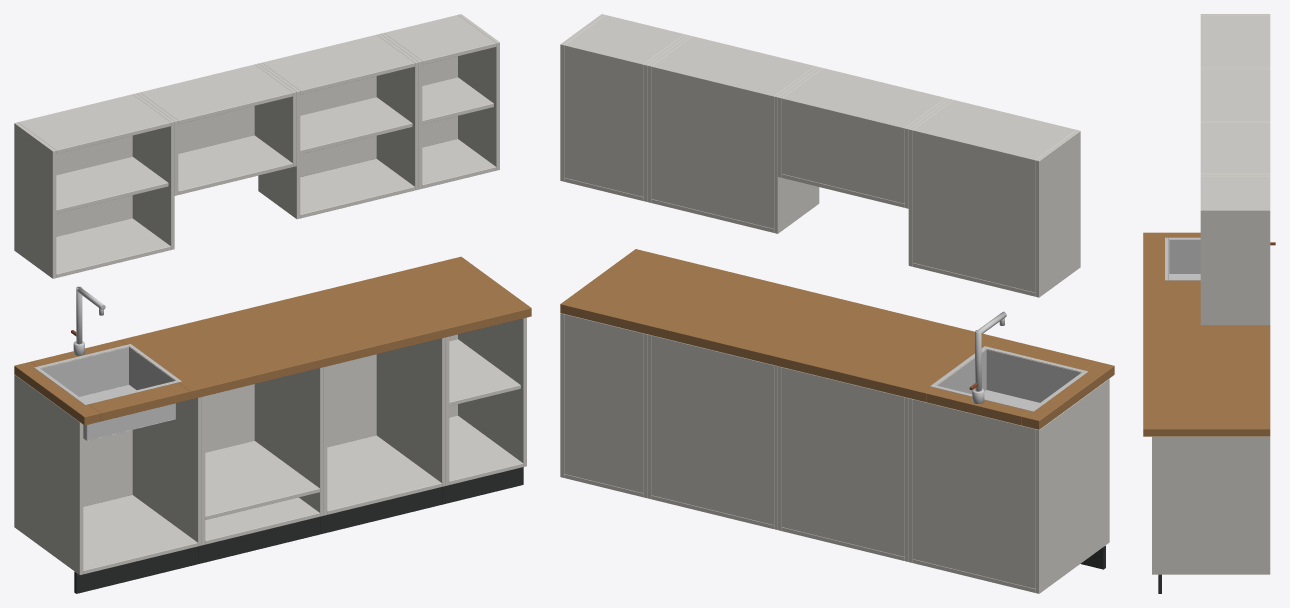
The model's file is kitchen_run_cabinets_compact_body.glb.
3 renders of one model, left to right at view 1: azimuth 30°, elevation 25°; view 2: azimuth 150°, elevation 25°; view 3: azimuth 270°, elevation 25°, orthographic. The views are drawn at different scales.
Parts seen in each view (by area): view 1: kitchen_run_cabinets_compact_body; view 2: kitchen_run_cabinets_compact_body; view 3: kitchen_run_cabinets_compact_body.
Boxes of the visible parts, bbox=[...] form: kitchen_run_cabinets_compact_body: bbox=[14, 14, 531, 593]; kitchen_run_cabinets_compact_body: bbox=[560, 14, 1114, 593]; kitchen_run_cabinets_compact_body: bbox=[1143, 14, 1275, 593].
Size of the model in its own units: 2.2 by 2 by 0.625.
